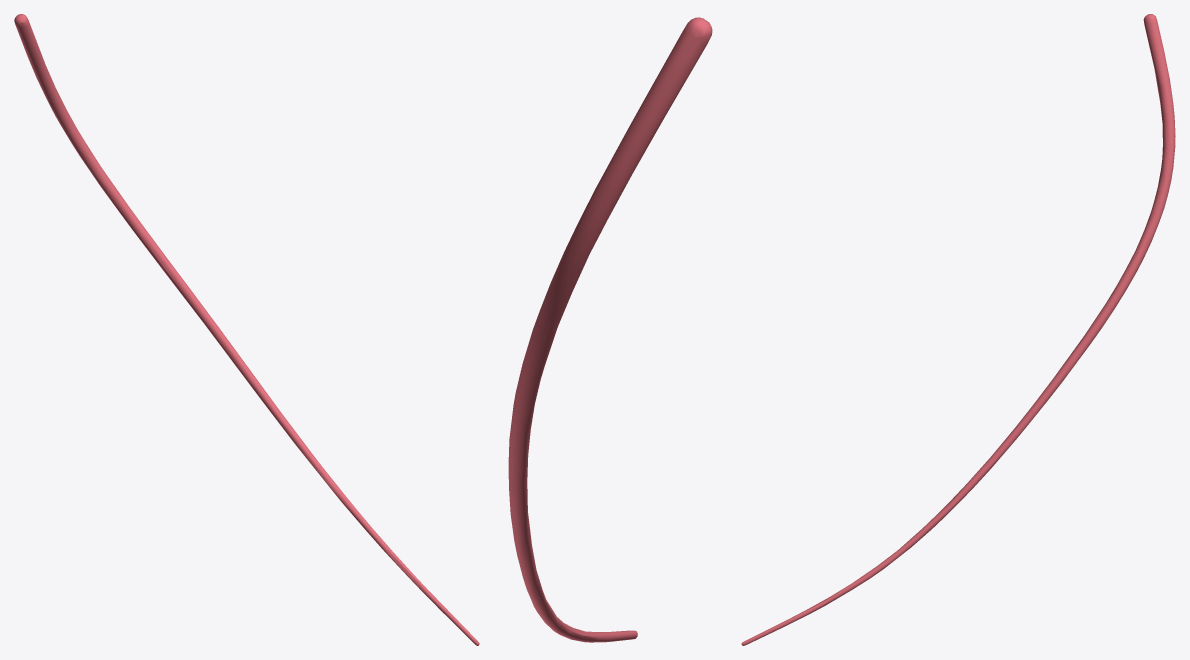
The model's file is fma85097_fj2325.glb.
The picture shows the model from 3 angles, left to right: view 1: azimuth 30°, elevation 25°; view 2: azimuth 150°, elevation 25°; view 3: azimuth 270°, elevation 25°; orthographic projection. The views are drawn at different scales.
Visible parts, largest first — view 1: FMA85097_FJ2325; view 2: FMA85097_FJ2325; view 3: FMA85097_FJ2325.
Boxes of the visible parts, x1,y1,x2,y2 form: FMA85097_FJ2325: (14, 14, 479, 645); FMA85097_FJ2325: (508, 17, 712, 642); FMA85097_FJ2325: (741, 14, 1175, 645).
Bounding box in the file's own units: 0.0299 × 0.0606 × 0.0462.
